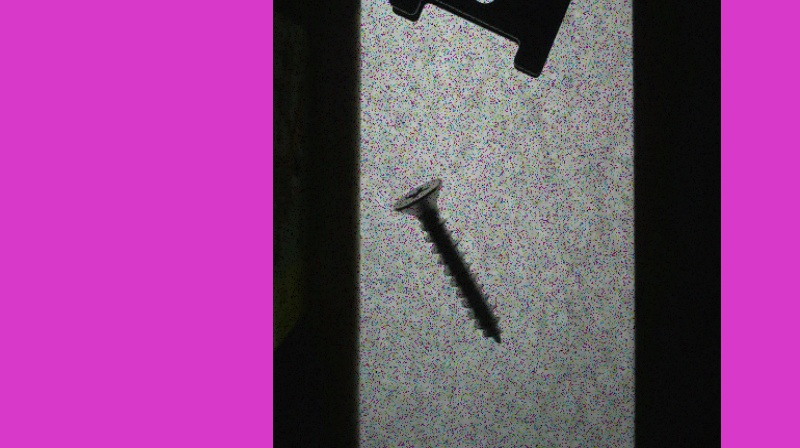O002: (386, 0, 584, 80)
S001: (389, 173, 509, 349)
